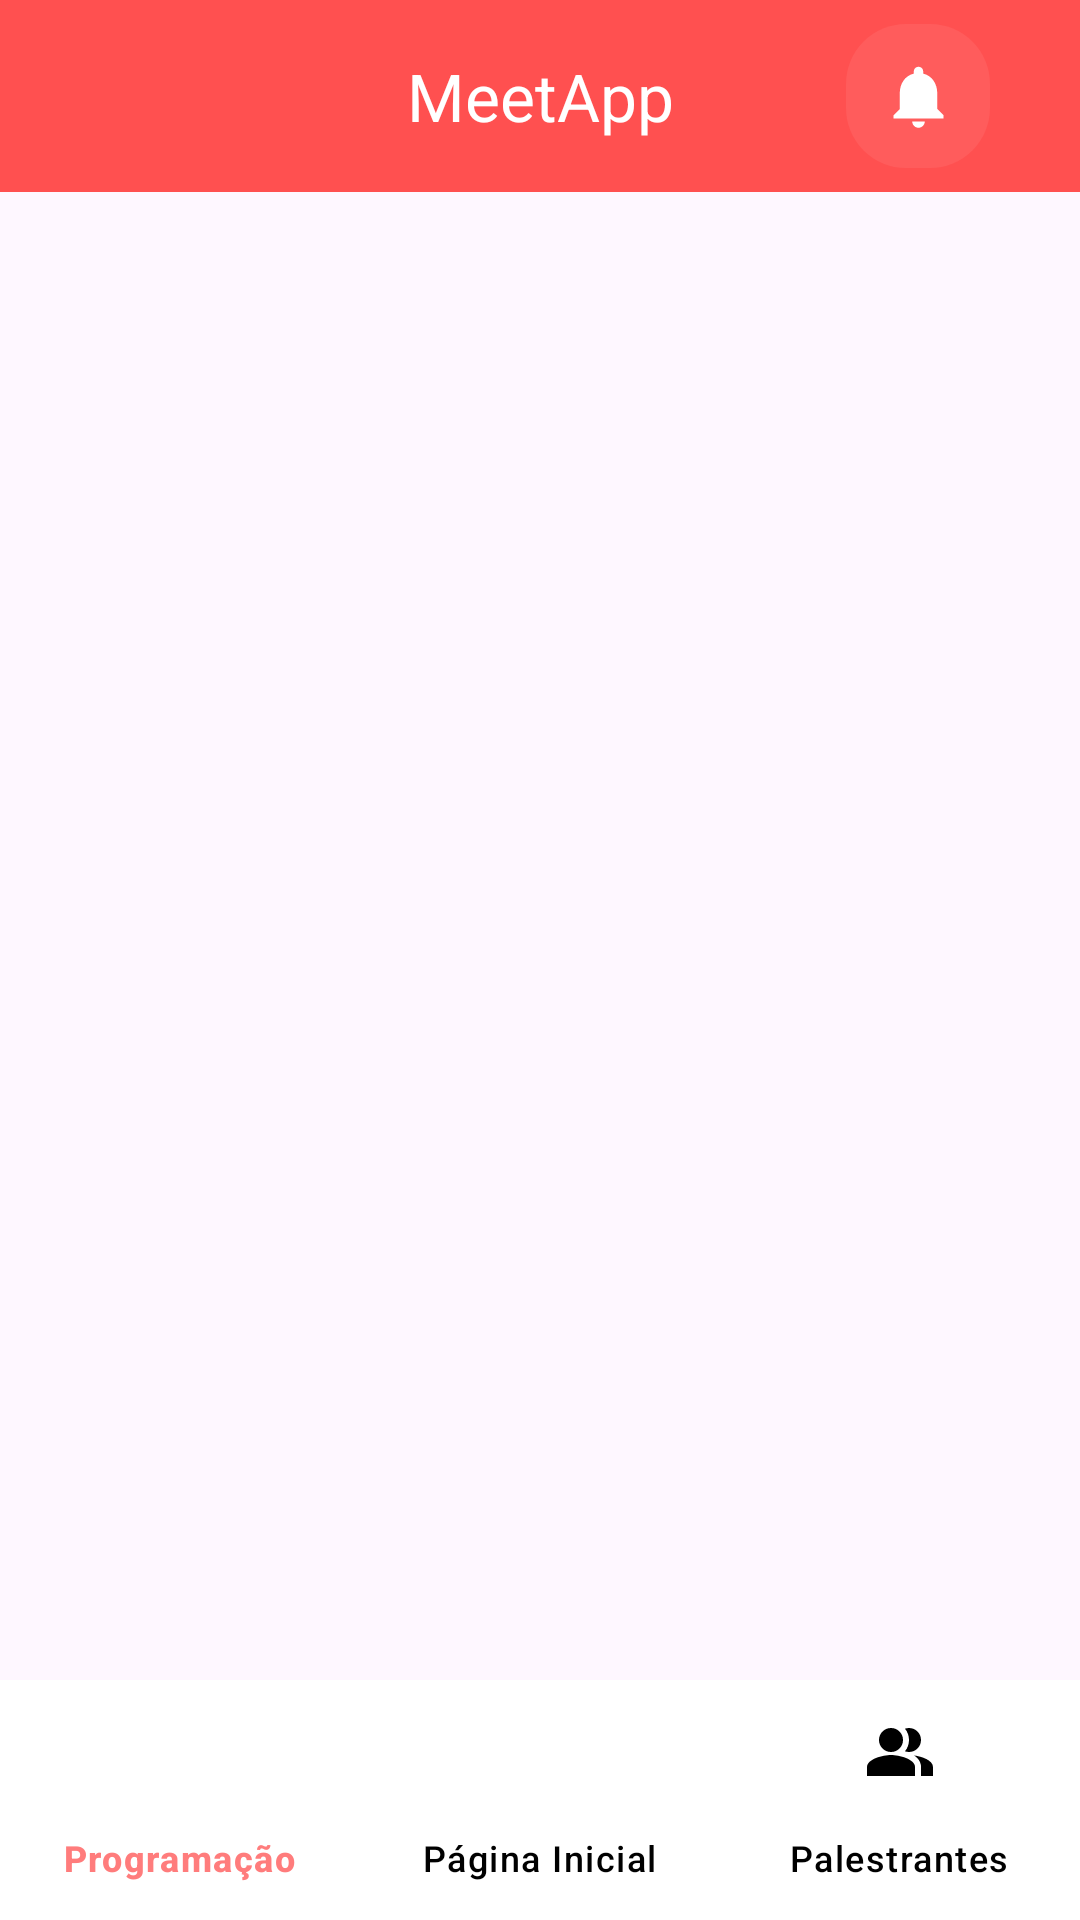

Where to tap for icons on this 1080w x 1920h app screen, as (x=x, y=y):
Botão de notificações: (x=918, y=97)
